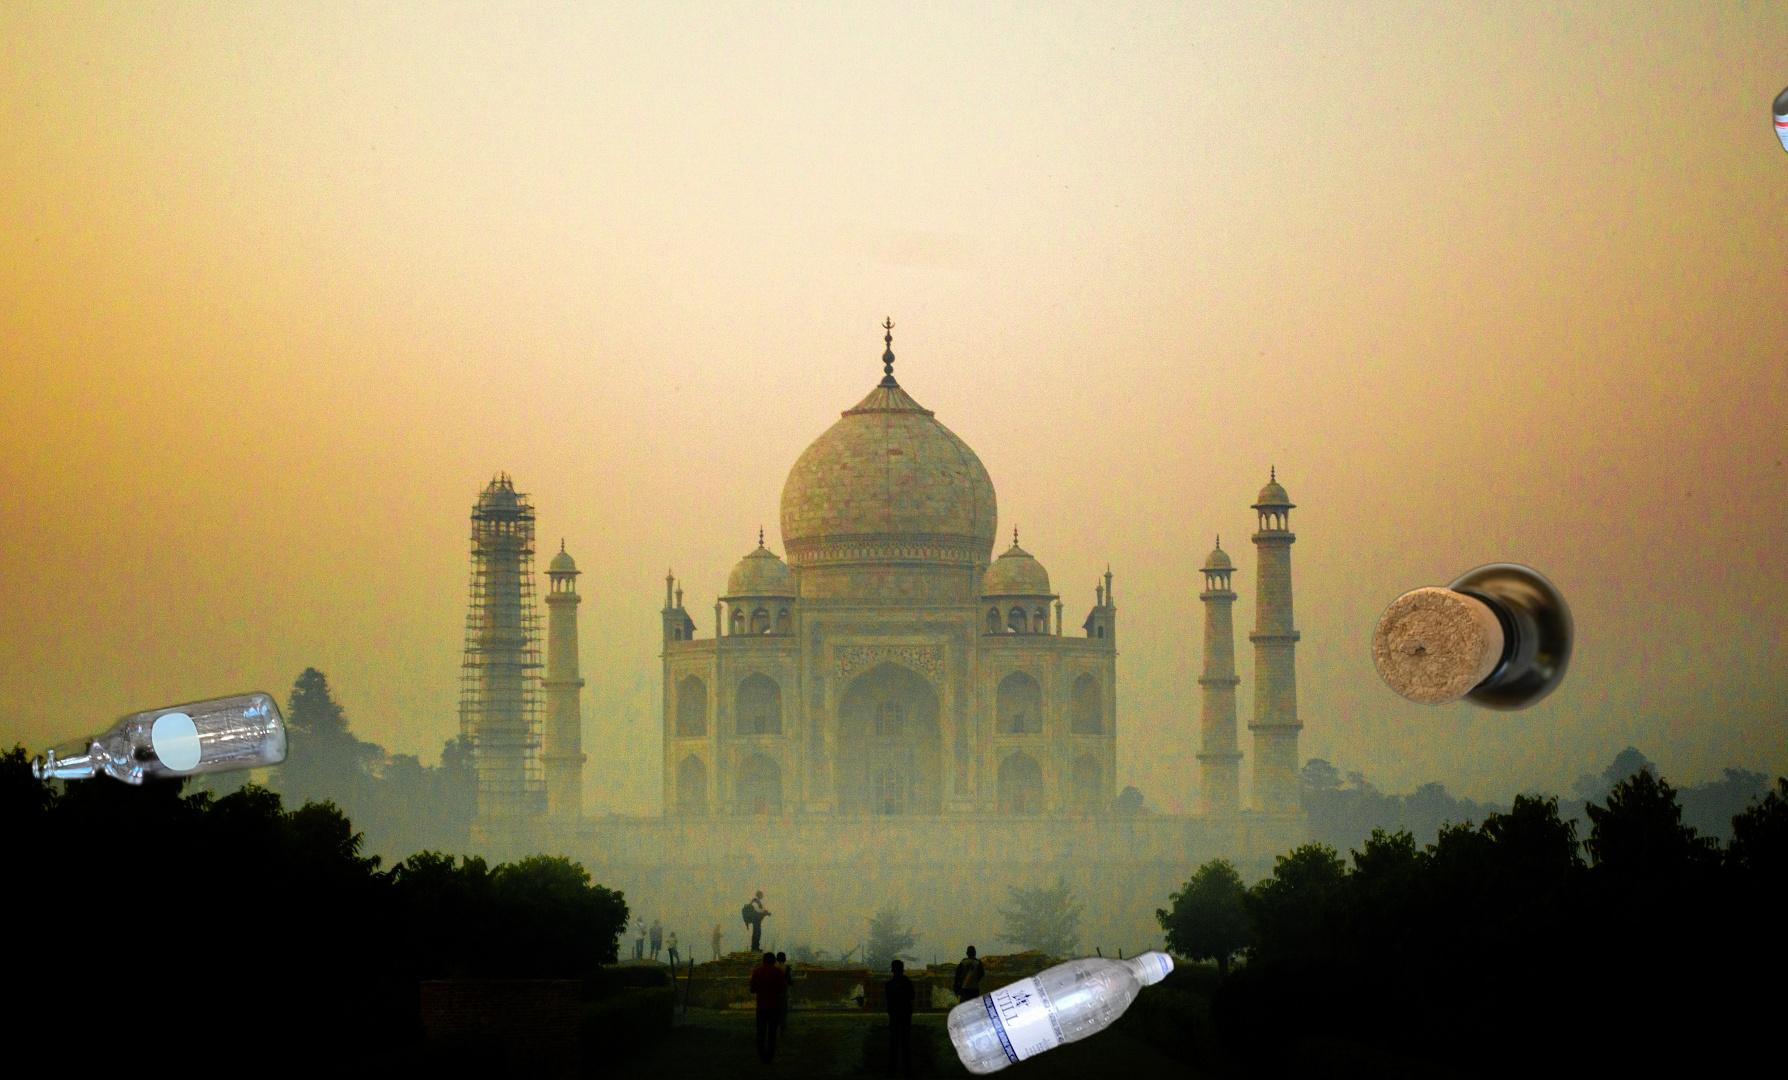glass: (1367, 560, 1577, 715), (27, 684, 292, 791)
metal-cans: (1768, 59, 1788, 212)
plastic-bottles: (845, 943, 1358, 1080)
